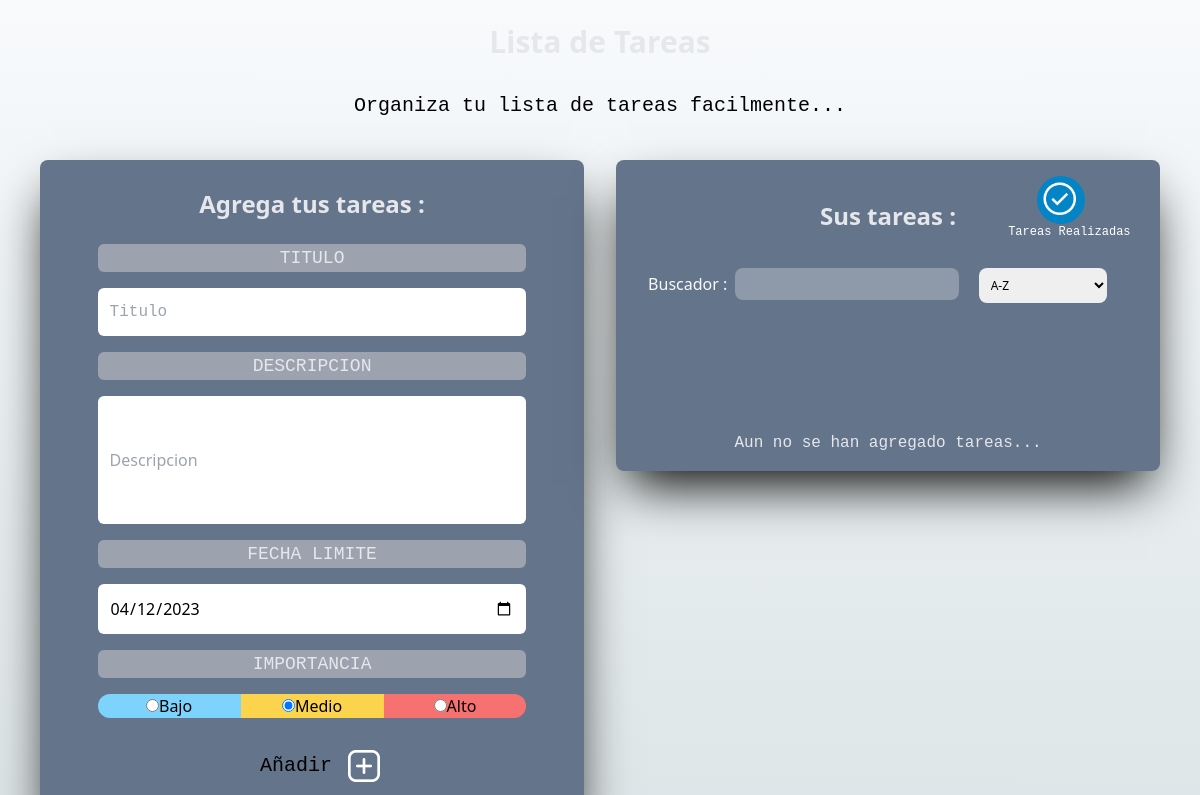
Test: Lista de Tareas › <Formulario/> - Verificar los errores
# Error al no completar los campos
Click the button with test id "submite-form".
click(296, 766)  # box [260,750,332,782]
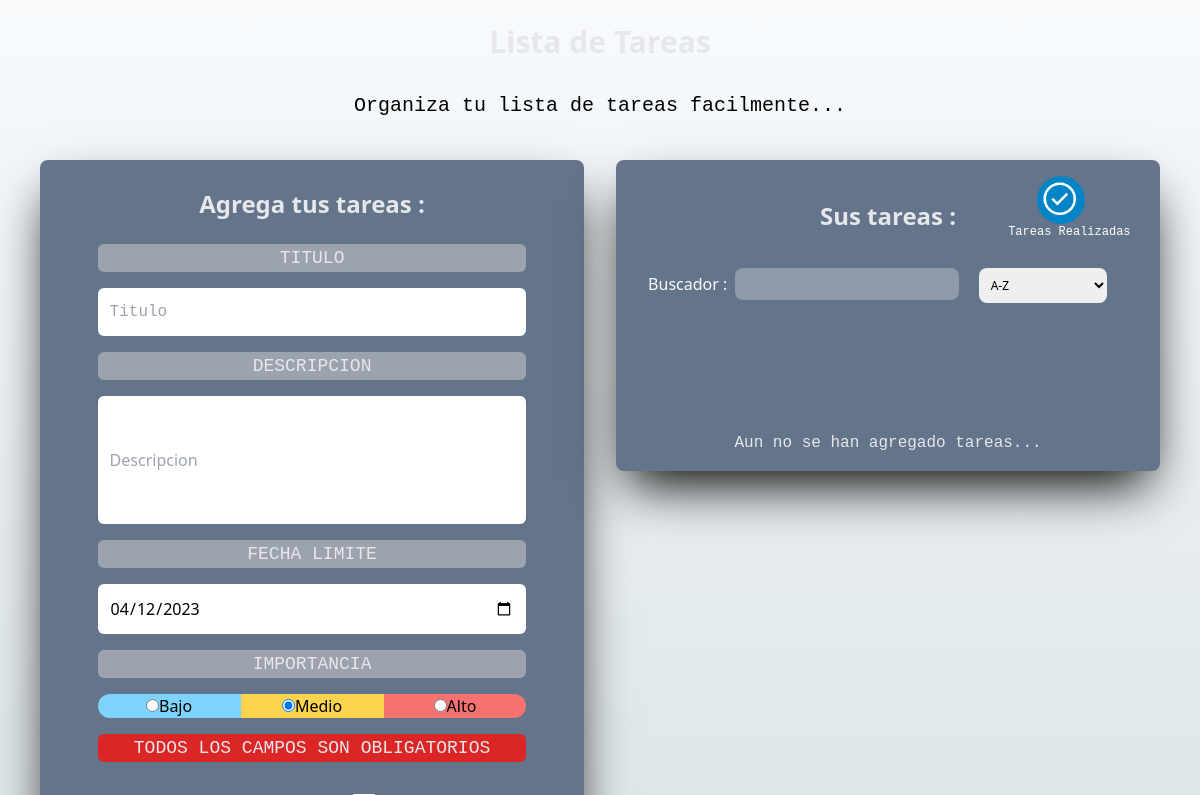
Check: the text "Todos los campos son obligatorios" is shown, box [98,734,526,762]
Check: the text with test id "alerta" reads "Todos los campos son obligatorios", box [98,734,527,762]
